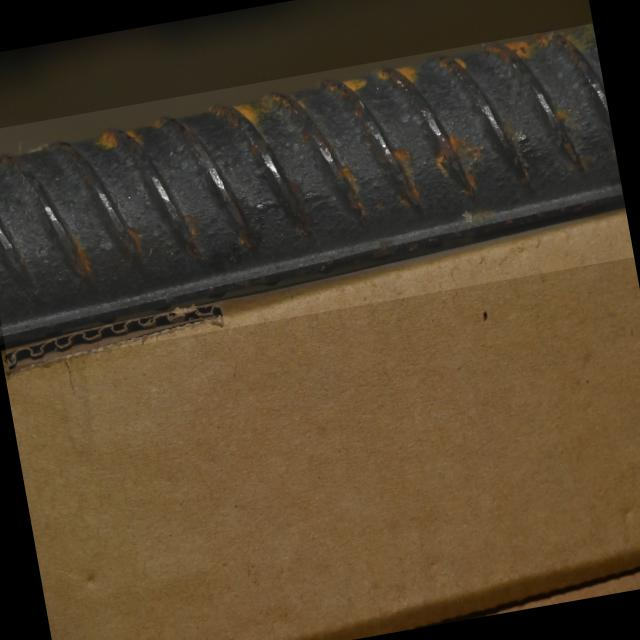ribbed bar: (0, 23, 634, 367)
